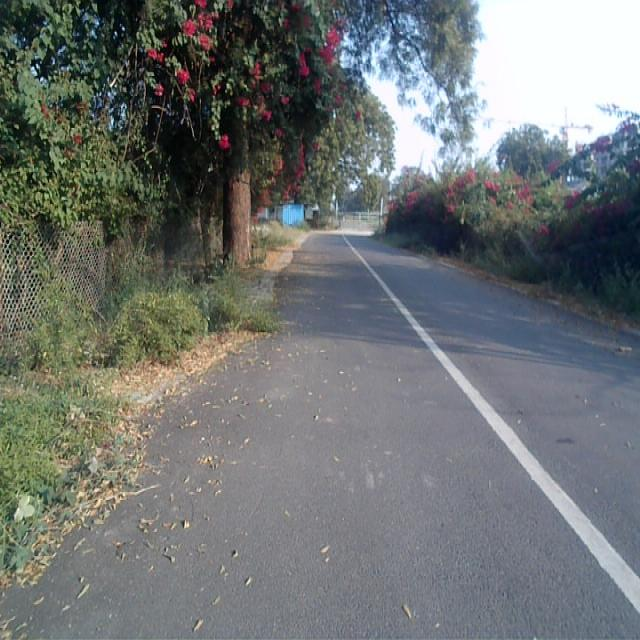lane: (0, 235, 640, 640)
